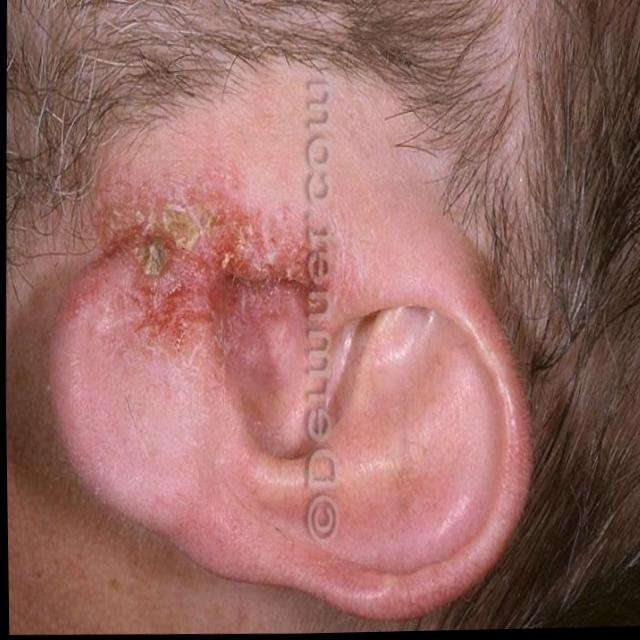Eczema: (89, 176, 333, 354)
